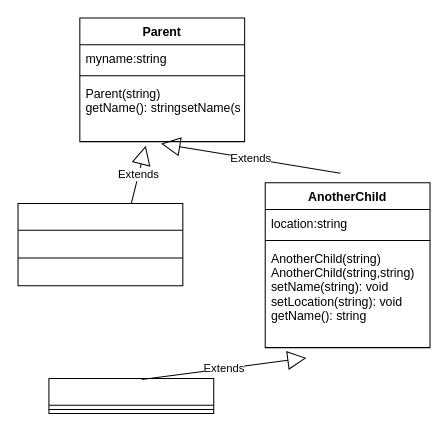
Image size: 448x432. Some labels were removed from this diagram. The shapes that lost their labels are listed below. From the top down, each one's box as (x1, y1, x2, y2) in pixels, then its label:
(17, 202, 183, 286): Child
(48, 377, 214, 414): GrandChild
